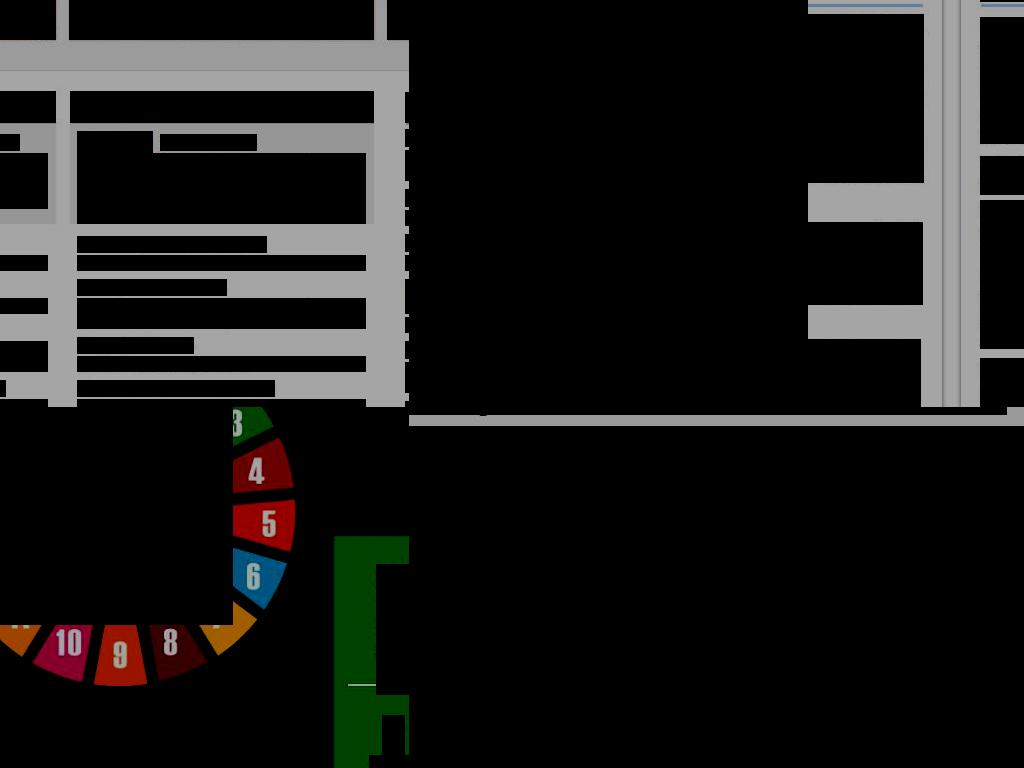button: (459, 463, 693, 506)
heading: (482, 0, 808, 407), (409, 0, 491, 407), (78, 91, 365, 122), (409, 61, 440, 76), (409, 233, 440, 248)
image: (409, 426, 1024, 768), (0, 407, 233, 625), (803, 14, 924, 183), (77, 131, 153, 207)
link: (77, 380, 275, 397), (77, 236, 267, 253), (515, 105, 681, 122), (77, 279, 227, 296), (501, 310, 645, 327), (558, 193, 678, 210), (77, 337, 194, 354), (160, 134, 257, 151), (665, 127, 757, 144), (635, 171, 720, 188), (659, 61, 719, 78), (631, 39, 677, 56), (980, 17, 1024, 34), (680, 39, 712, 56), (409, 180, 438, 195), (536, 14, 544, 28)
text: (501, 222, 923, 305), (501, 339, 921, 407), (77, 153, 366, 224), (501, 61, 789, 122), (501, 127, 779, 188), (501, 17, 777, 56), (501, 39, 767, 78), (501, 171, 751, 210), (501, 105, 735, 144), (77, 298, 366, 329), (84, 4, 359, 25), (77, 255, 366, 271), (77, 356, 366, 372), (499, 475, 653, 495), (77, 399, 366, 407), (556, 39, 633, 56), (382, 715, 405, 756), (980, 156, 1024, 173), (980, 200, 1024, 217), (369, 755, 409, 768), (501, 17, 522, 34), (520, 17, 536, 34), (678, 193, 683, 210), (643, 310, 648, 327)
